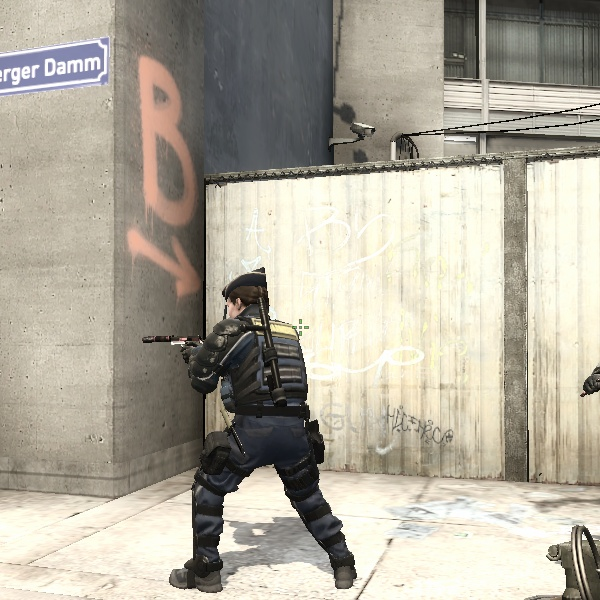ct_body: (142, 256, 408, 586)
ct_head: (212, 266, 284, 330)
